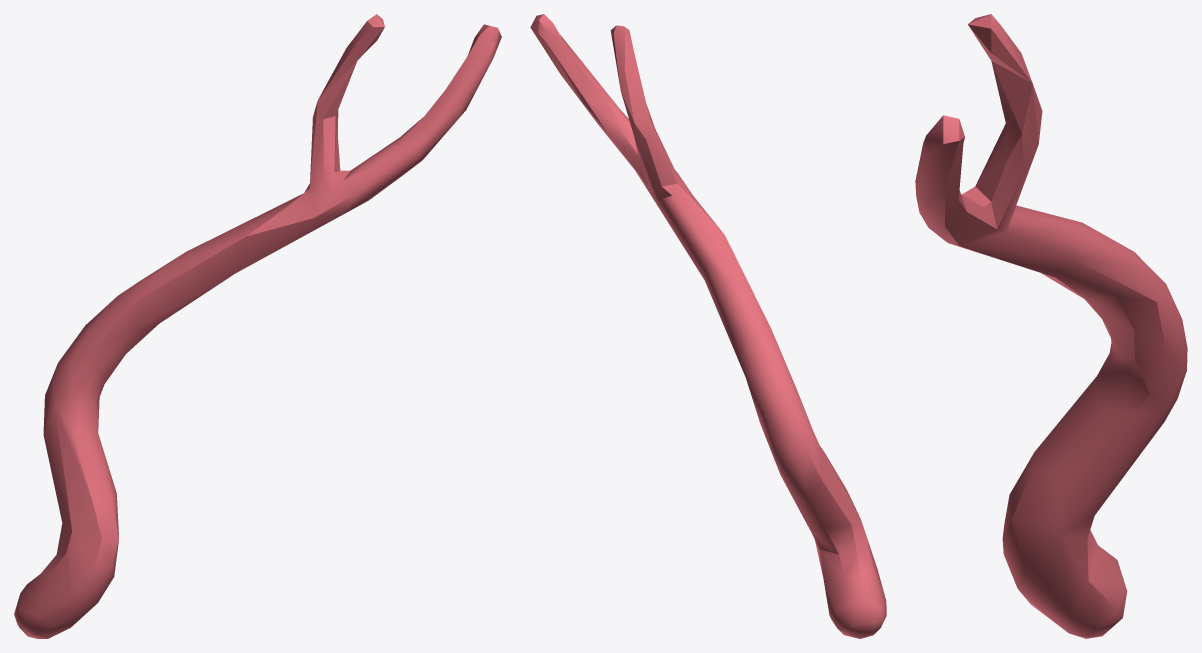
The model's file is fma49581_fj5113.glb.
The picture shows the model from 3 angles, left to right: view 1: azimuth 30°, elevation 25°; view 2: azimuth 150°, elevation 25°; view 3: azimuth 270°, elevation 25°; orthographic projection. The views are drawn at different scales.
Visible parts, largest first — view 1: FMA49581_FJ5113; view 2: FMA49581_FJ5113; view 3: FMA49581_FJ5113.
Part boxes in pixels (x1,y1,x2,y2): FMA49581_FJ5113: [14, 14, 501, 638]; FMA49581_FJ5113: [530, 14, 886, 638]; FMA49581_FJ5113: [915, 14, 1187, 638].
Size of the model in its own units: 0.00906 by 0.0114 by 0.0034.
